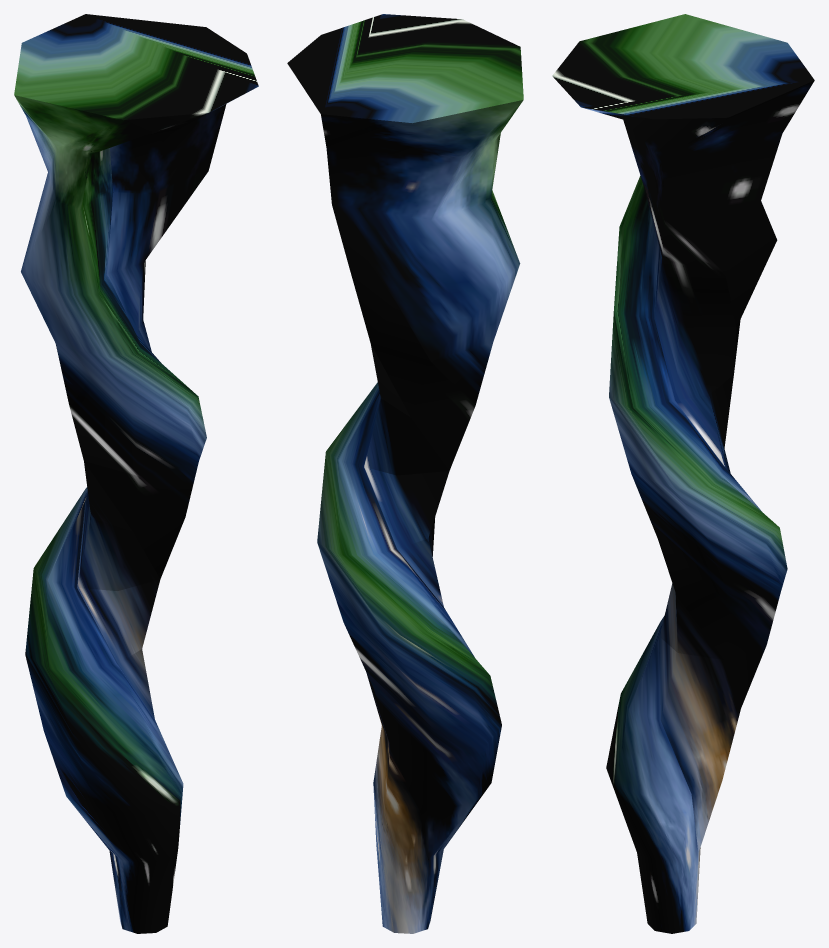
The model's file is stasisvortex.glb.
The picture shows the model from 3 angles, left to right: view 1: azimuth 30°, elevation 25°; view 2: azimuth 150°, elevation 25°; view 3: azimuth 270°, elevation 25°; orthographic projection.
Visible parts, largest first — view 1: stasisvortex; view 2: stasisvortex; view 3: stasisvortex.
Boxes of the visible parts, x1=… form: stasisvortex: x1=14, y1=14, x2=258, y2=933; stasisvortex: x1=287, y1=14, x2=523, y2=933; stasisvortex: x1=552, y1=14, x2=814, y2=933.
Size of the model in its own units: 2.39 by 8.99 by 2.52.
1 material, 1 textured.
